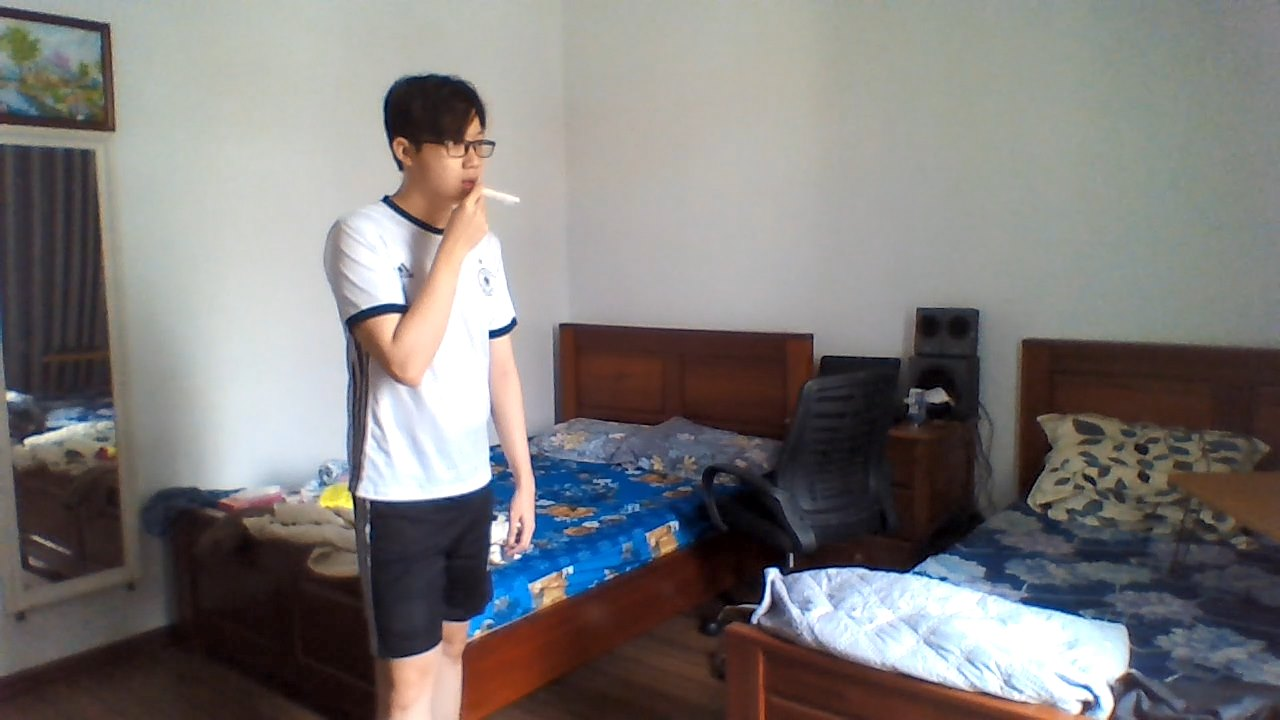cigarette: (476, 186, 527, 207)
person: (309, 61, 552, 720)
